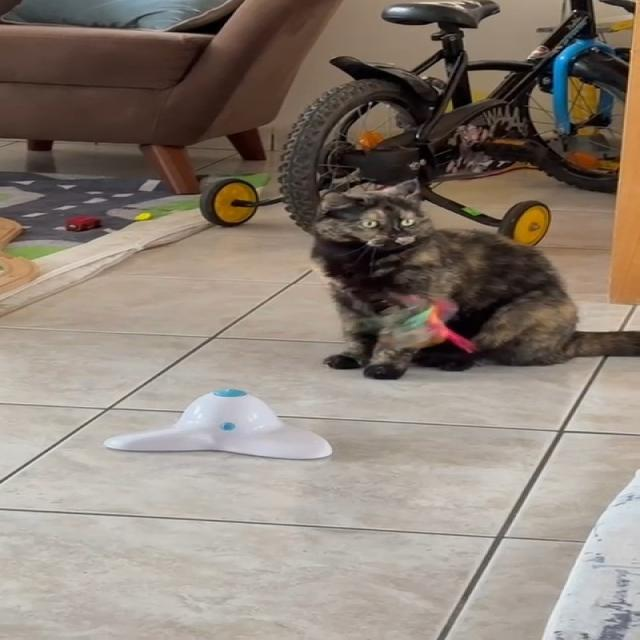authorized: (308, 177, 639, 380)
